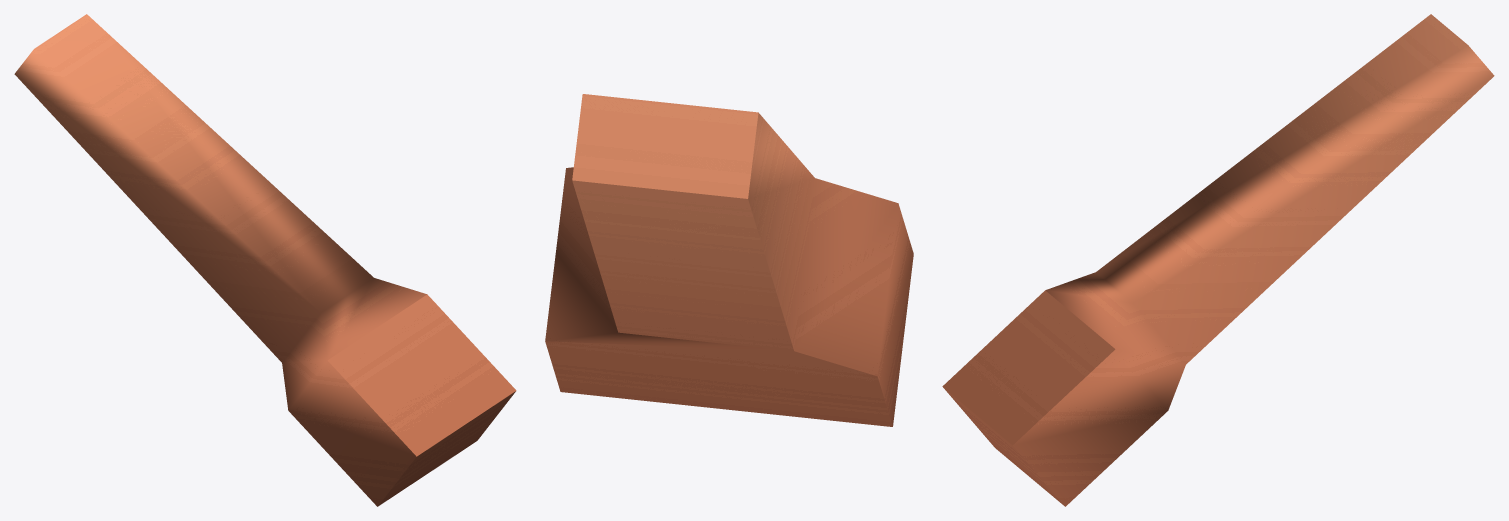
The model's file is paddles_loop.glb.
The picture shows the model from 3 angles, left to right: view 1: azimuth 30°, elevation 25°; view 2: azimuth 150°, elevation 25°; view 3: azimuth 270°, elevation 25°; orthographic projection. The views are drawn at different scales.
Parts seen in each view (by area): view 1: paddles; view 2: paddles; view 3: paddles.
Part boxes in pixels (x1,y1,x2,y2): paddles: (14, 14, 516, 506); paddles: (545, 94, 913, 426); paddles: (942, 14, 1494, 506).
Bounding box in the file's own units: 0.6098 × 0.6892 × 0.9384.
Materials: 1 (1 with a texture image).
